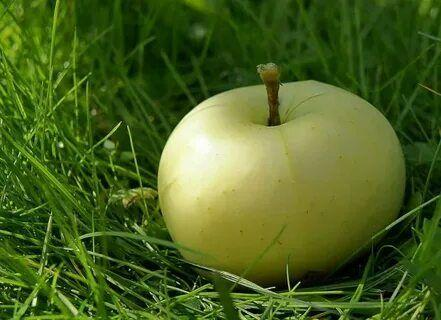Apple: (159, 81, 406, 284)
